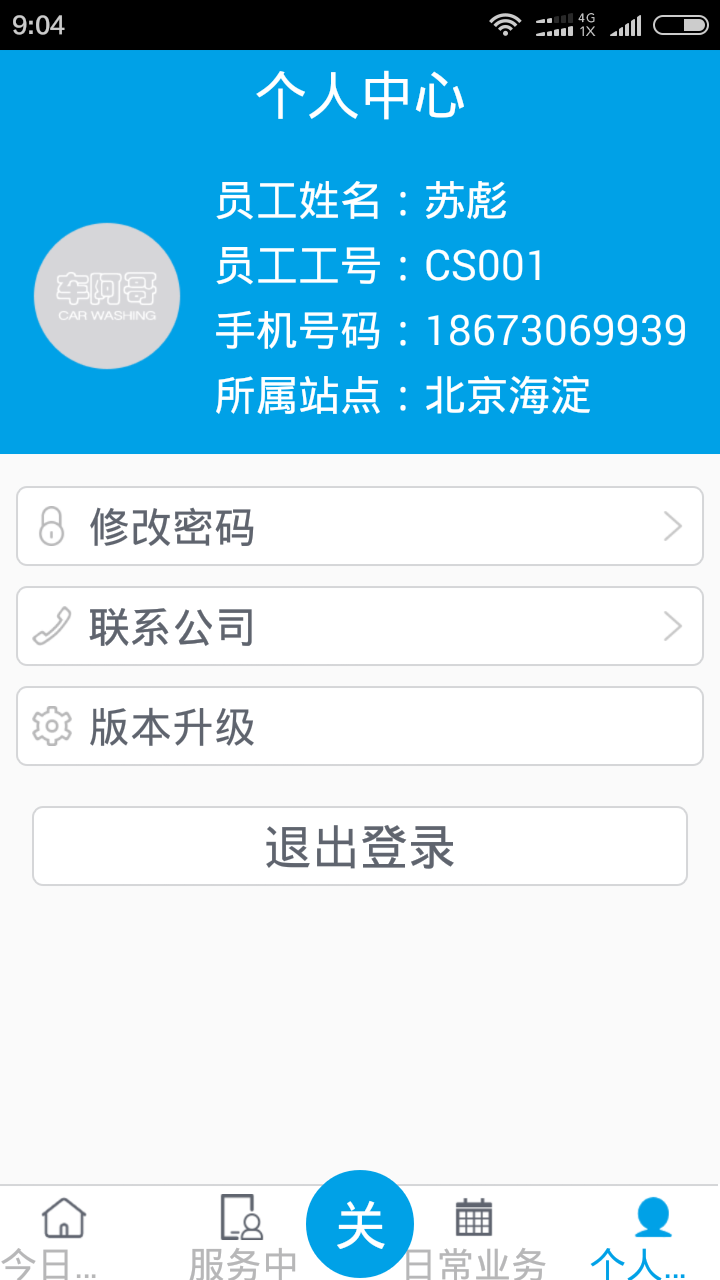button: (23, 800, 700, 895)
imgbutton: (645, 606, 693, 649)
imgview: (23, 213, 193, 375)
nav: (3, 1182, 720, 1277)
textview: (206, 167, 694, 429)
